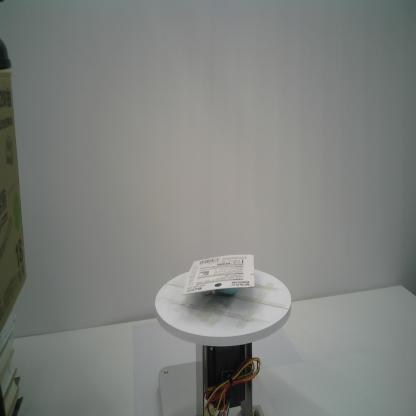Stationery: (181, 254, 256, 296)
